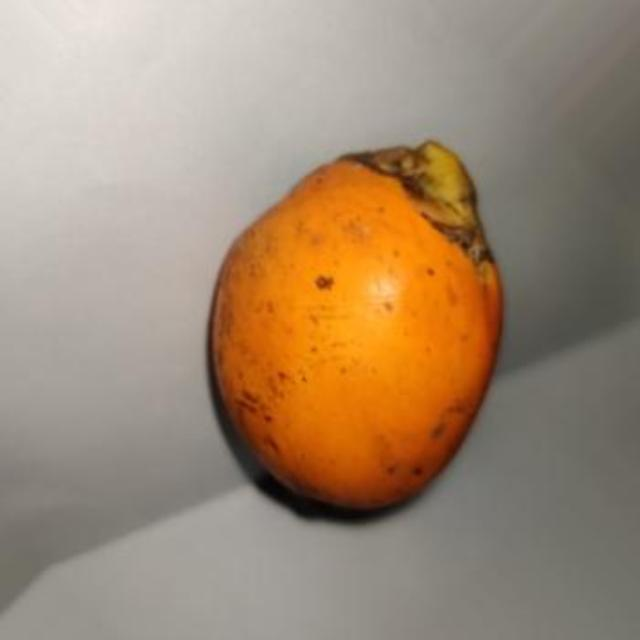good: (208, 143, 503, 519)
